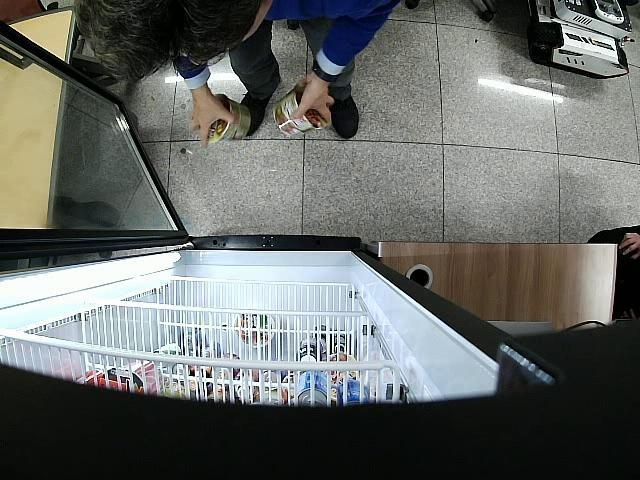03_chapagetti_L: (272, 85, 326, 137), (208, 94, 252, 144)
